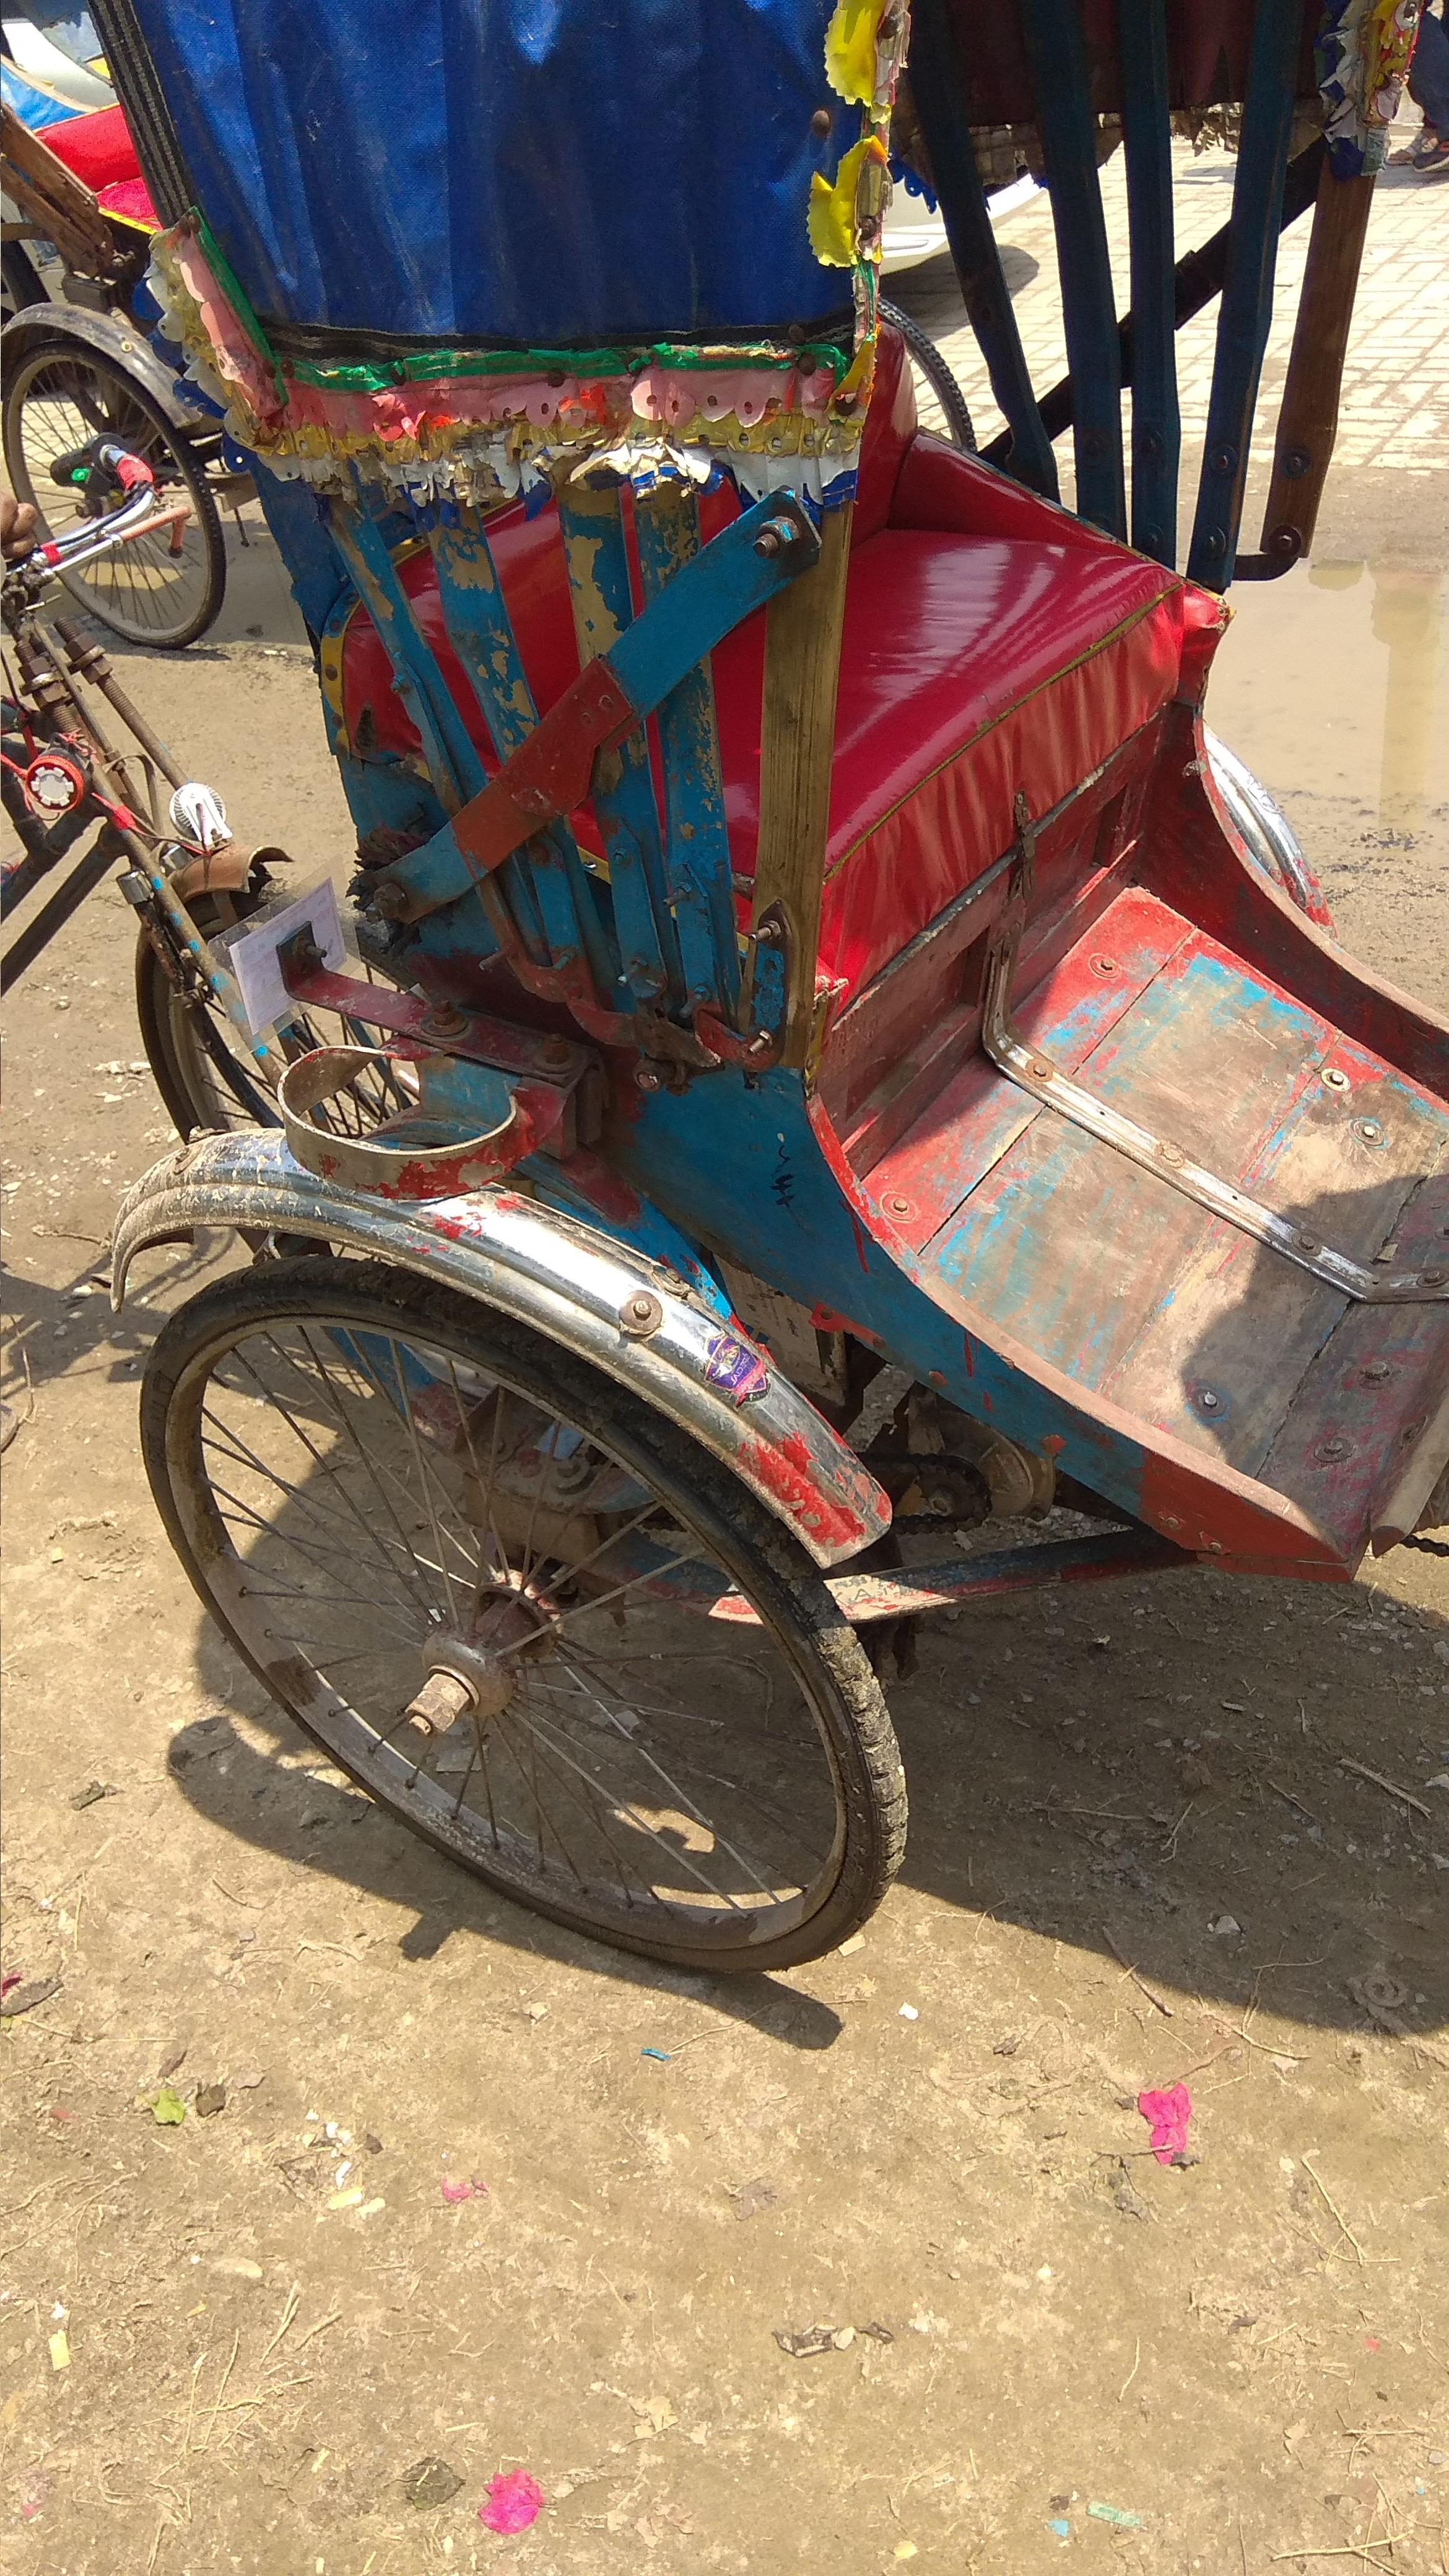Rickshaw: (94, 25, 1428, 1955)
